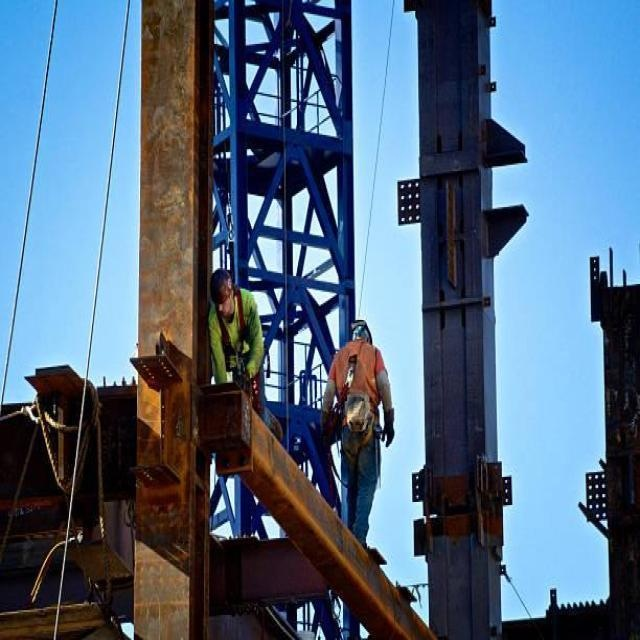Arnes_seguridad: (333, 343, 380, 462), (209, 288, 267, 377)
